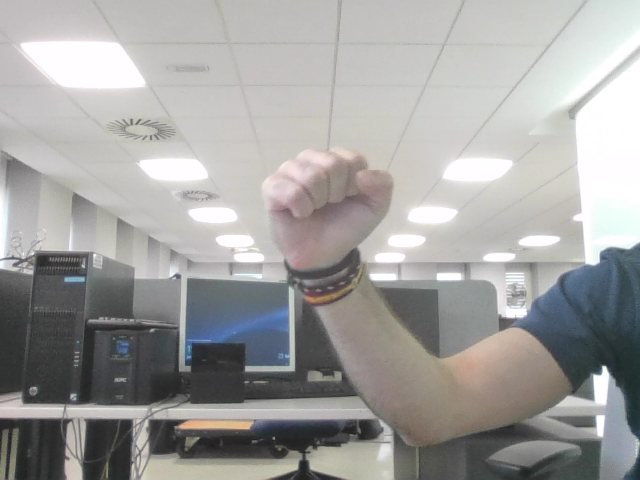Puño: (275, 158, 379, 236)
